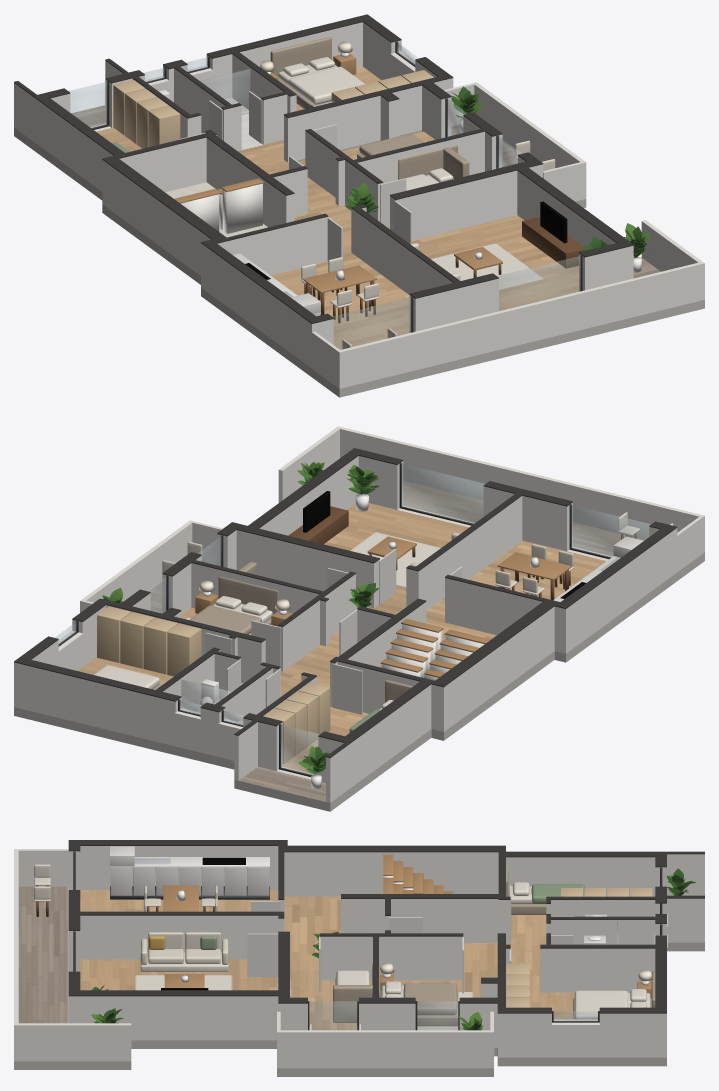
3 renders of one model, top to bottom at view 1: azimuth 30°, elevation 25°; view 2: azimuth 150°, elevation 25°; view 3: azimuth 270°, elevation 25°, orthographic.
Visible parts, largest first — view 1: walls, floor, caps, parapet, parapet.003, Cube.028, Cube.024, Cube.068, parapet.001, Cube.071, Cube.140, Cube (+19 smaller); view 2: walls, floor, caps, parapet, Cube.028, parapet.003, Cube.024, parapet.001, Cube.077, Cube.032, Cube.078, Cube.079 (+20 smaller); view 3: walls, floor, caps, parapet.003, parapet.001, parapet.002, sill.002, Cube.092, Cube.040, Cube.020, Cube.071, Cube.016 (+25 smaller).
Part boxes in pixels (left/top/right/bottom): walls: left=14, top=22, right=633, bottom=368; floor: left=14, top=67, right=704, bottom=397; caps: left=14, top=14, right=633, bottom=323; parapet: left=337, top=262, right=703, bottom=388; parapet.003: left=474, top=83, right=585, bottom=167; Cube.028: left=497, top=256, right=580, bottom=310; Cube.024: left=332, top=297, right=411, bottom=349; Cube.068: left=222, top=183, right=262, bottom=233; parapet.001: left=641, top=220, right=704, bottom=300; Cube.071: left=288, top=66, right=364, bottom=104; Cube.140: left=522, top=217, right=583, bottom=268; Cube: left=69, top=82, right=107, bottom=128; walls: left=14, top=456, right=677, bottom=802; floor: left=14, top=481, right=704, bottom=811; caps: left=14, top=448, right=677, bottom=758; parapet: left=338, top=426, right=704, bottom=552; Cube.028: left=401, top=464, right=484, bottom=523; parapet.003: left=81, top=521, right=193, bottom=602; Cube.024: left=571, top=505, right=650, bottom=557; parapet.001: left=278, top=426, right=341, bottom=502; Cube.077: left=167, top=623, right=201, bottom=676; Cube.032: left=332, top=664, right=362, bottom=714; Cube.078: left=143, top=618, right=177, bottom=674; Cube.079: left=120, top=612, right=154, bottom=668; walls: left=68, top=846, right=704, bottom=1057; floor: left=14, top=886, right=704, bottom=1076; caps: left=68, top=840, right=704, bottom=1013; parapet.003: left=278, top=1030, right=491, bottom=1068; parapet.001: left=14, top=1023, right=131, bottom=1061; parapet.002: left=16, top=849, right=68, bottom=886; sill.002: left=552, top=1025, right=599, bottom=1057; Cube.092: left=403, top=983, right=457, bottom=1014; Cube.040: left=247, top=933, right=278, bottom=976; Cube.020: left=309, top=1001, right=356, bottom=1029; Cube.071: left=574, top=990, right=627, bottom=1019; Cube.016: left=417, top=1001, right=457, bottom=1029.
Bounding box in the file's own units: 10.93 × 1.49 × 17.4.
Materials: 24 (1 with a texture image).
